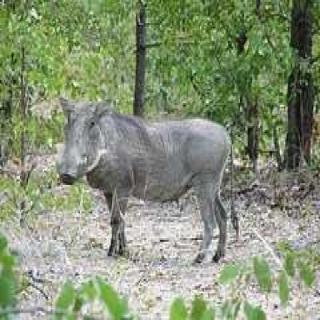Pig: (48, 63, 235, 264)
